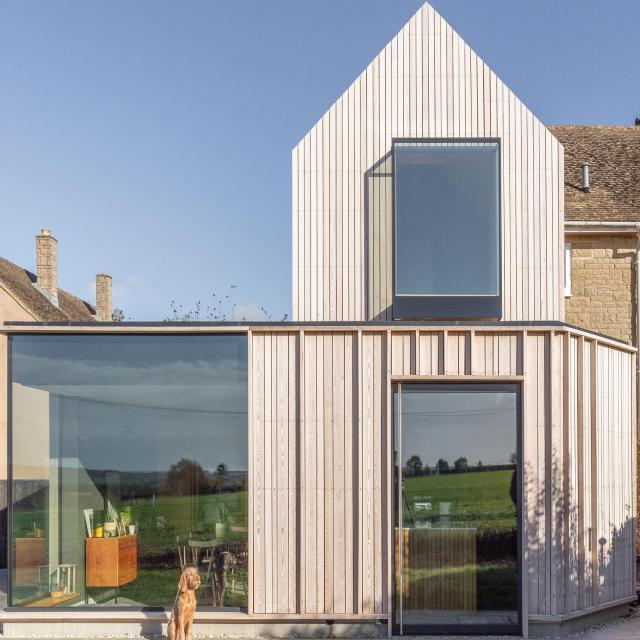wall: (1, 0, 639, 638)
windows: (7, 334, 247, 610), (390, 381, 522, 639), (395, 140, 497, 296)
